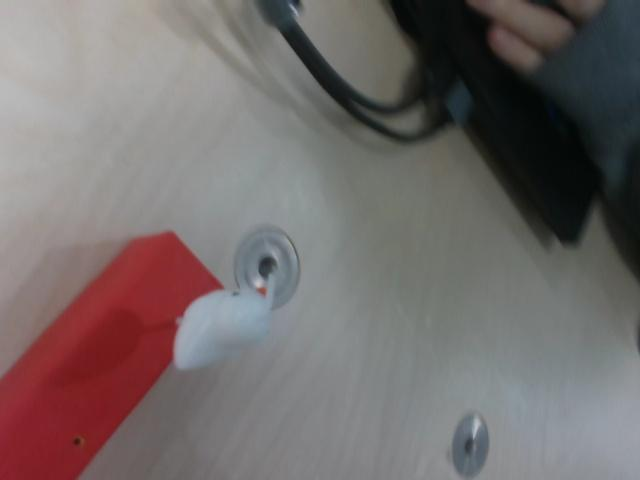w_duck: (164, 270, 290, 372)
